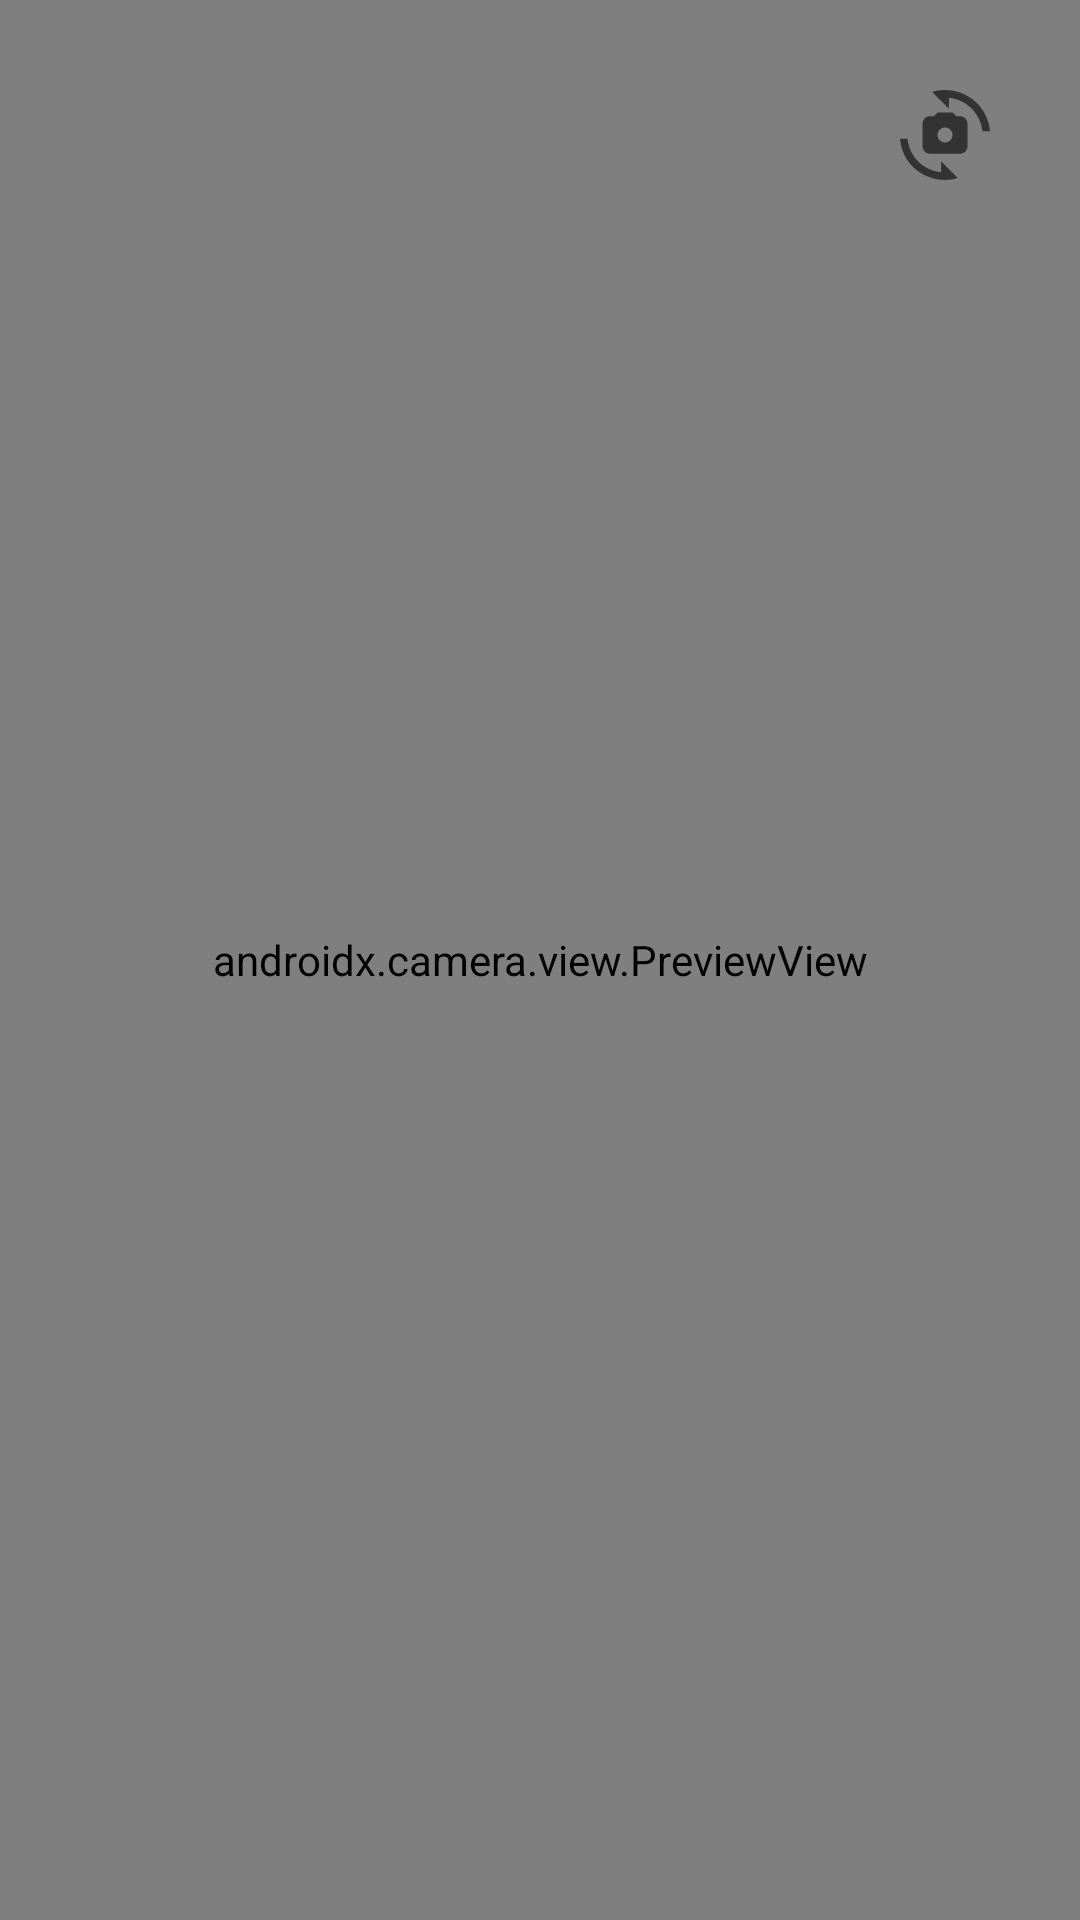

Named icons in this screenshot (1080 × 1920) and their centers, (x=x, y=y):
Flip Camera: (x=945, y=135)
